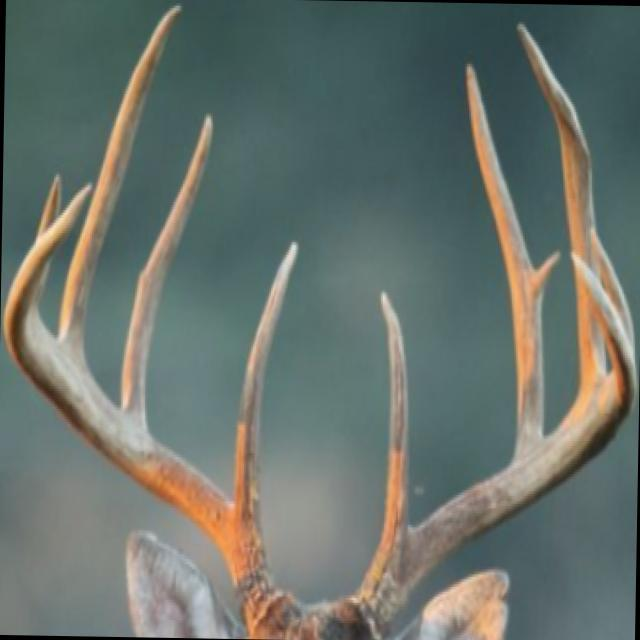E1: (532, 246, 561, 298)
L-F: (349, 247, 638, 640)
L-G1: (379, 286, 409, 537)
L-G2: (465, 61, 542, 458)
R-F: (1, 181, 286, 636)
R-G1: (233, 240, 299, 521)
R-G2: (119, 111, 213, 425)
R-G3: (57, 3, 182, 361)
